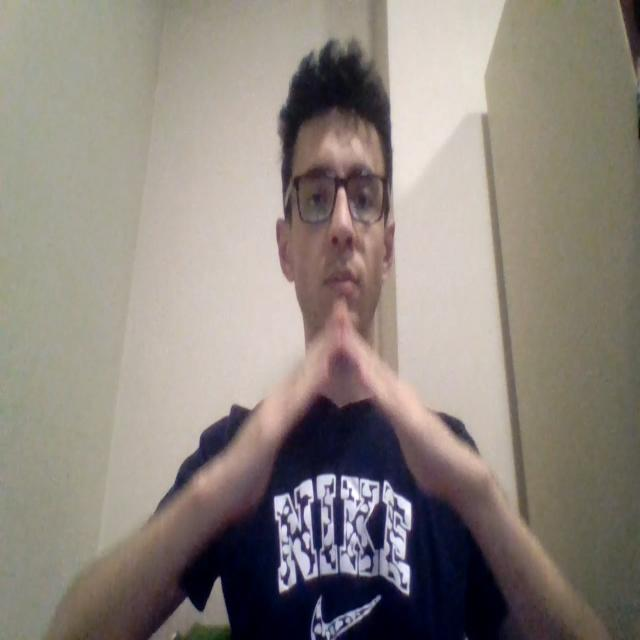house: (224, 302, 465, 507)
